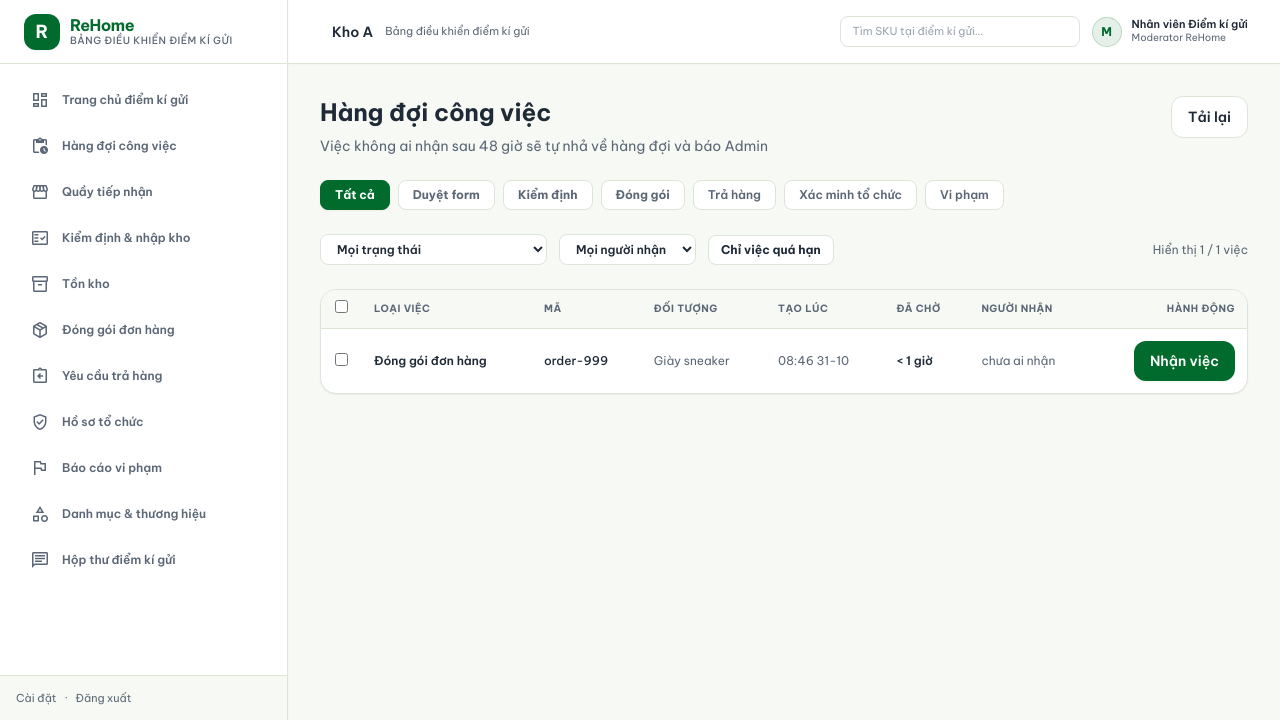
Test: ConsignmentQueuePage component behaviors › displays error banner and reloads when claim encounters 409 conflict
Expected: the text "Giày sneaker" is shown, 642,328 -> 766,393
Click the button "Nhận việc". click: (1184, 361)
box: 1134,341 -> 1235,381
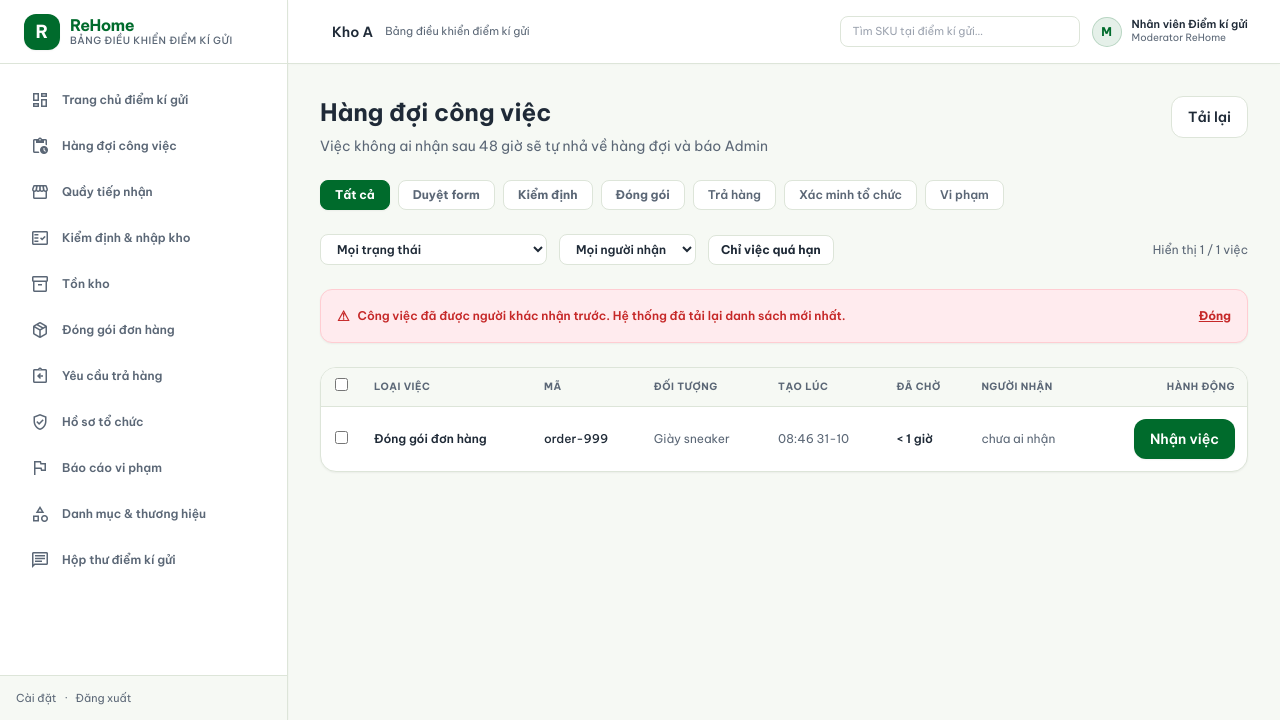
Expected: the text "Công việc đã được người khác nhận trước" is shown, 358,308 -> 846,323
